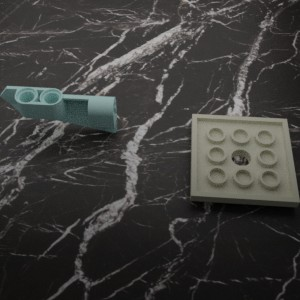lego: (190, 113, 300, 207), (0, 85, 117, 133)
